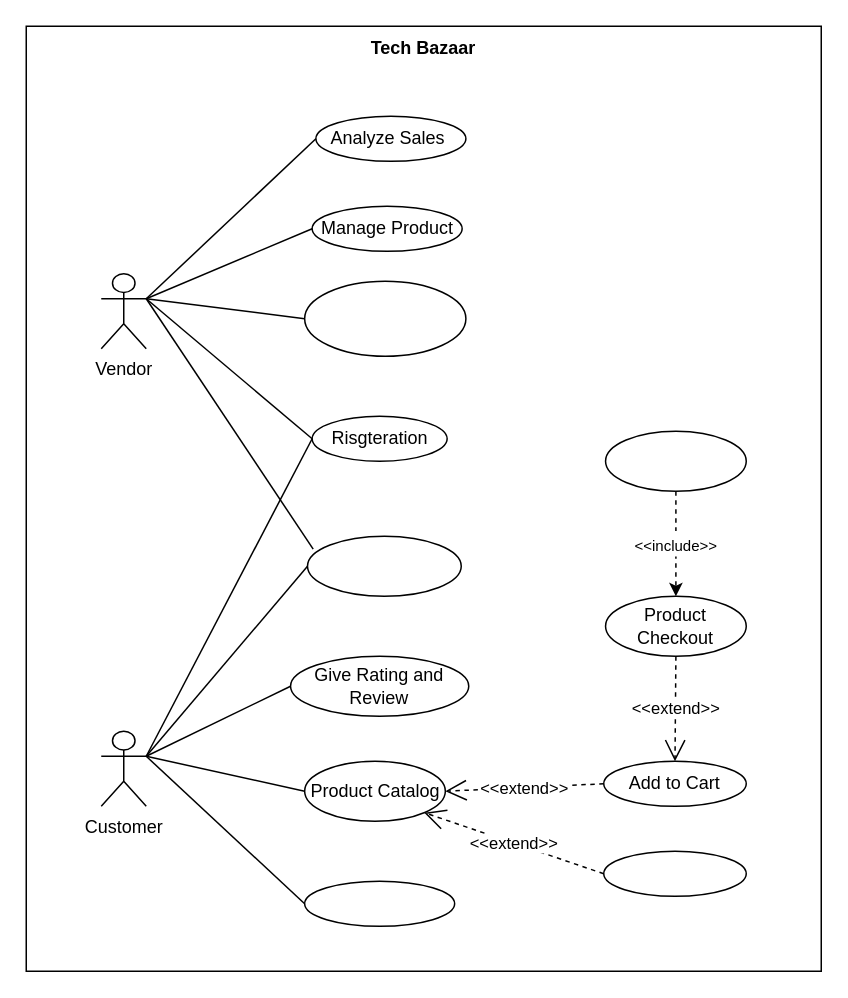
Some shapes in this 848 by 998 pixel diagram are drawn without their labels. Here are the shapes that lost their labels. From the top down, the centre of each, then its label:
At [384,318]: "Manage Advertisement".
At [675,460]: "Product Payment".
At [383,565]: "Chat Messenger".
At [674,873]: "Add to Wishlist".
At [379,903]: "Search Product".
